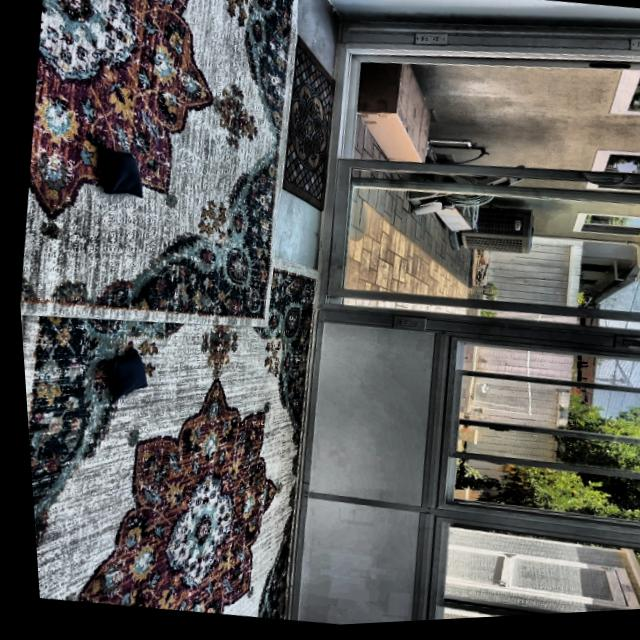blue-bean-bag: (95, 346, 150, 408), (91, 147, 148, 202)
